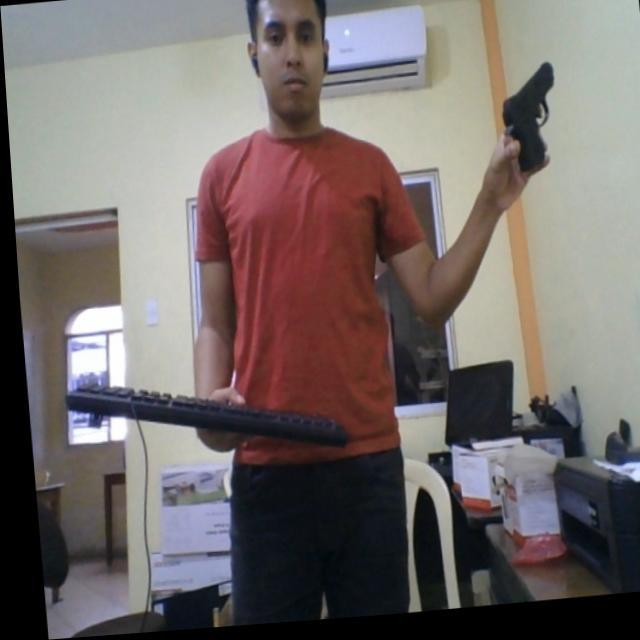weapon: (490, 66, 560, 187)
